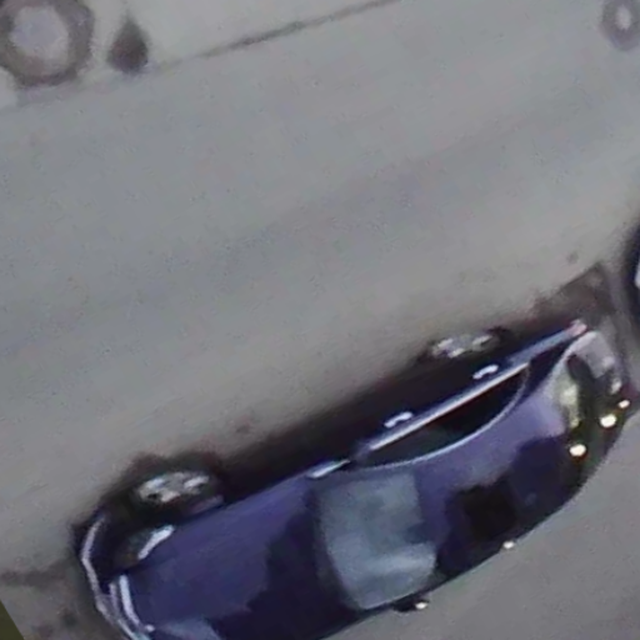car: (81, 316, 638, 640)
